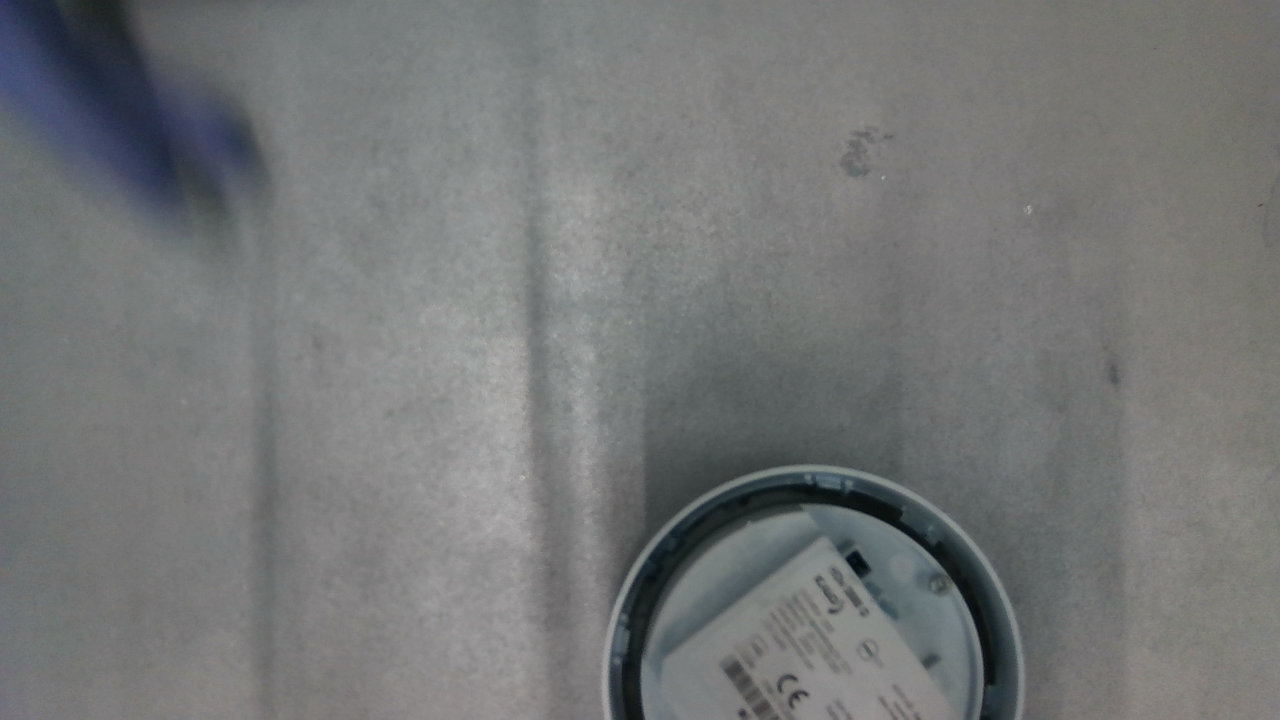HexScrew: (928, 574, 949, 597)
